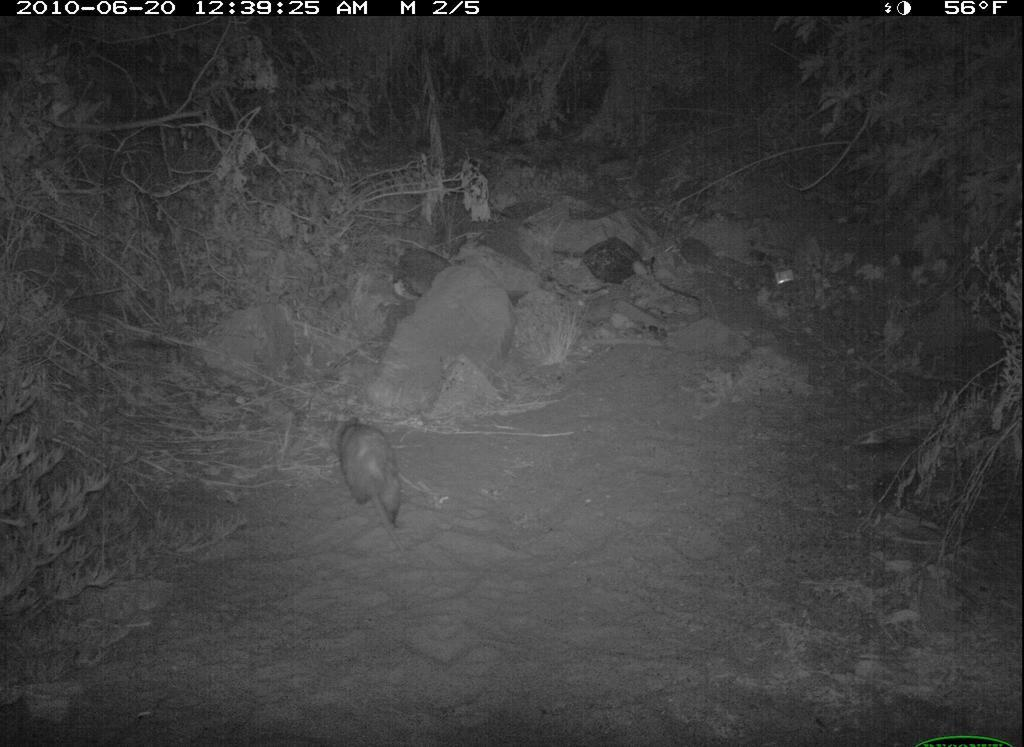opossum: (304, 406, 425, 546)
